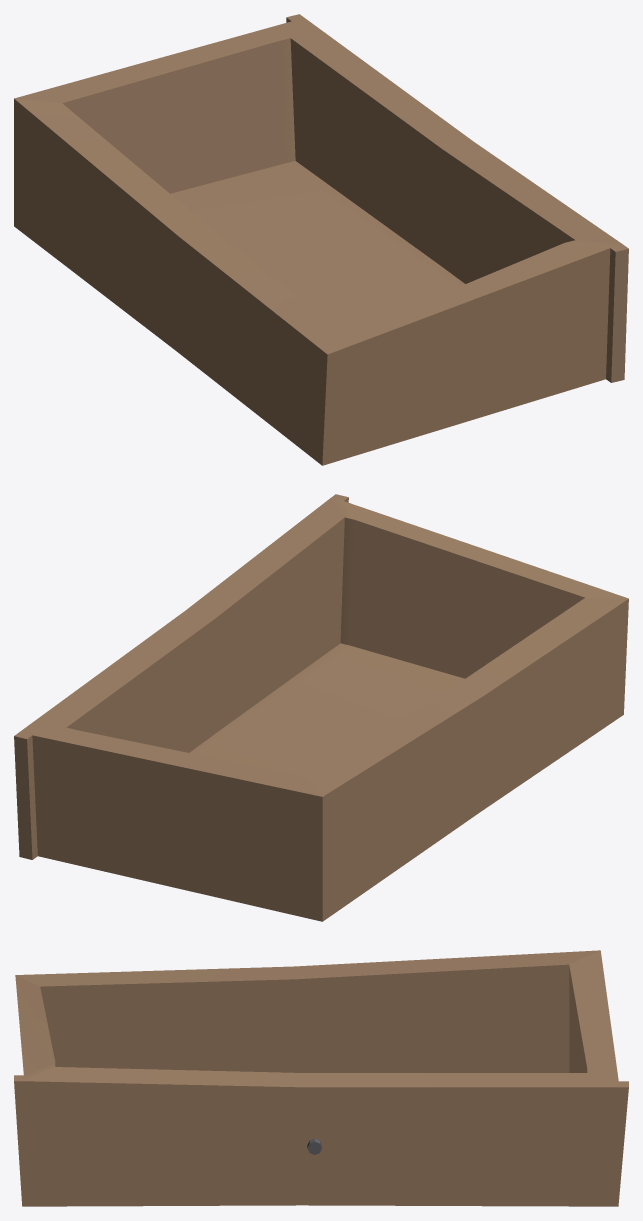
The model's file is Bathroom_Drawer.fbx.
3 renders of one model, top to bottom at view 1: azimuth 30°, elevation 25°; view 2: azimuth 150°, elevation 25°; view 3: azimuth 270°, elevation 25°, orthographic. The views are drawn at different scales.
Parts seen in each view (by area): view 1: pCube24; view 2: pCube24; view 3: pCube24.
Boxes of the visible parts, box(x1,y1,x2,y2) form: pCube24: box(14, 14, 628, 465); pCube24: box(14, 494, 628, 921); pCube24: box(14, 950, 628, 1206).
Bounding box in the file's own units: 4.68 × 2.15 × 8.67.
